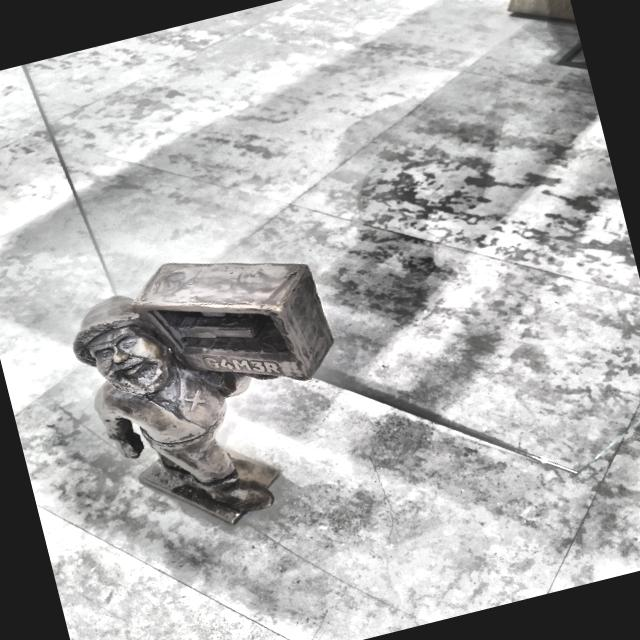GigaHercjusz: (73, 262, 332, 523)
